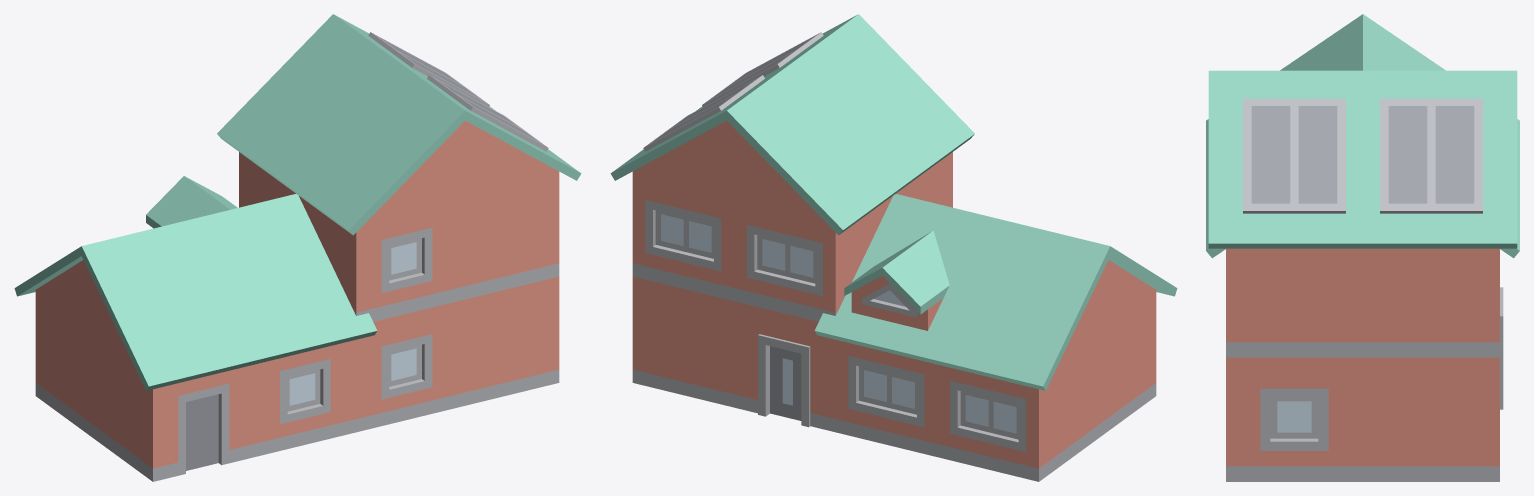
File: Two story house-9N6ROCbmO1.glb
3 renders of one model, left to right at view 1: azimuth 30°, elevation 25°; view 2: azimuth 150°, elevation 25°; view 3: azimuth 270°, elevation 25°, orthographic. The views are drawn at different scales.
Parts seen in each view (by area): view 1: house_type03; view 2: house_type03; view 3: house_type03.
Part boxes in pixels (<box>): house_type03: <box>14,14,581,481</box>; house_type03: <box>610,14,1177,481</box>; house_type03: <box>1206,14,1519,481</box>.
Bounding box in the file's own units: 1.71 × 1.14 × 0.916.
